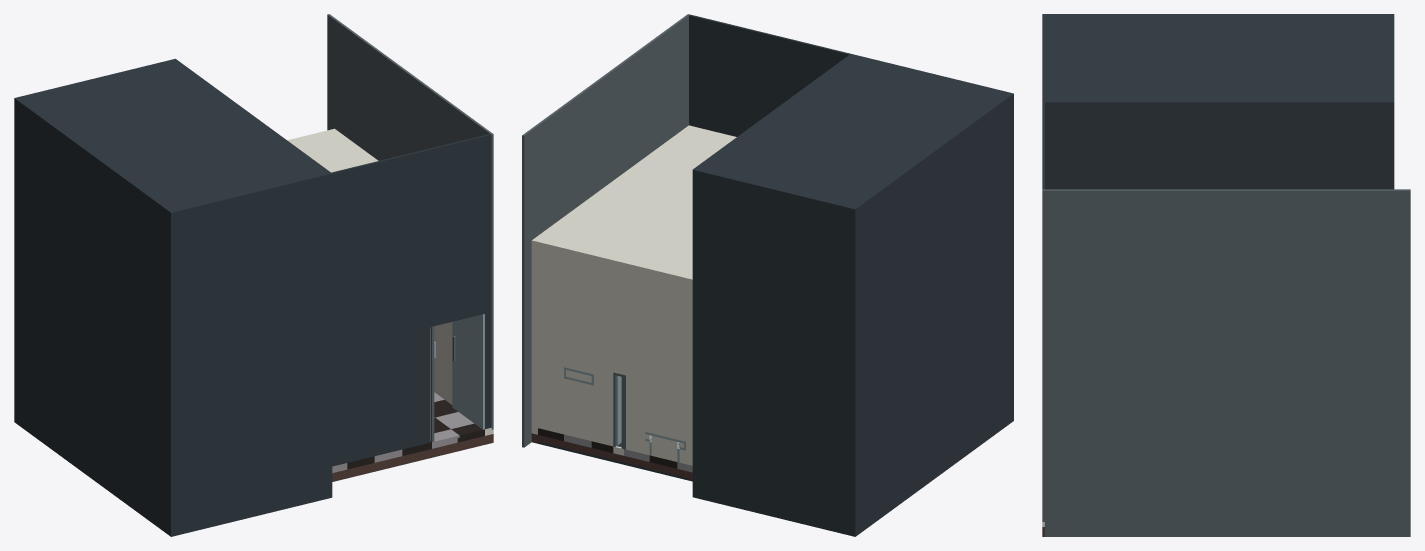
The model's file is Player House-3-bathroom.obj.
The picture shows the model from 3 angles, left to right: view 1: azimuth 30°, elevation 25°; view 2: azimuth 150°, elevation 25°; view 3: azimuth 270°, elevation 25°; orthographic projection. The views are drawn at different scales.
Visible parts, largest first — view 1: bathroom; view 2: bathroom; view 3: bathroom.
Part boxes in pixels (x1,y1,x2,y2): bathroom: [14, 14, 493, 536]; bathroom: [522, 14, 1013, 536]; bathroom: [1042, 14, 1410, 536].
Size of the model in its own units: 15.2 by 14.6 by 13.4.
1 material, 1 textured.
